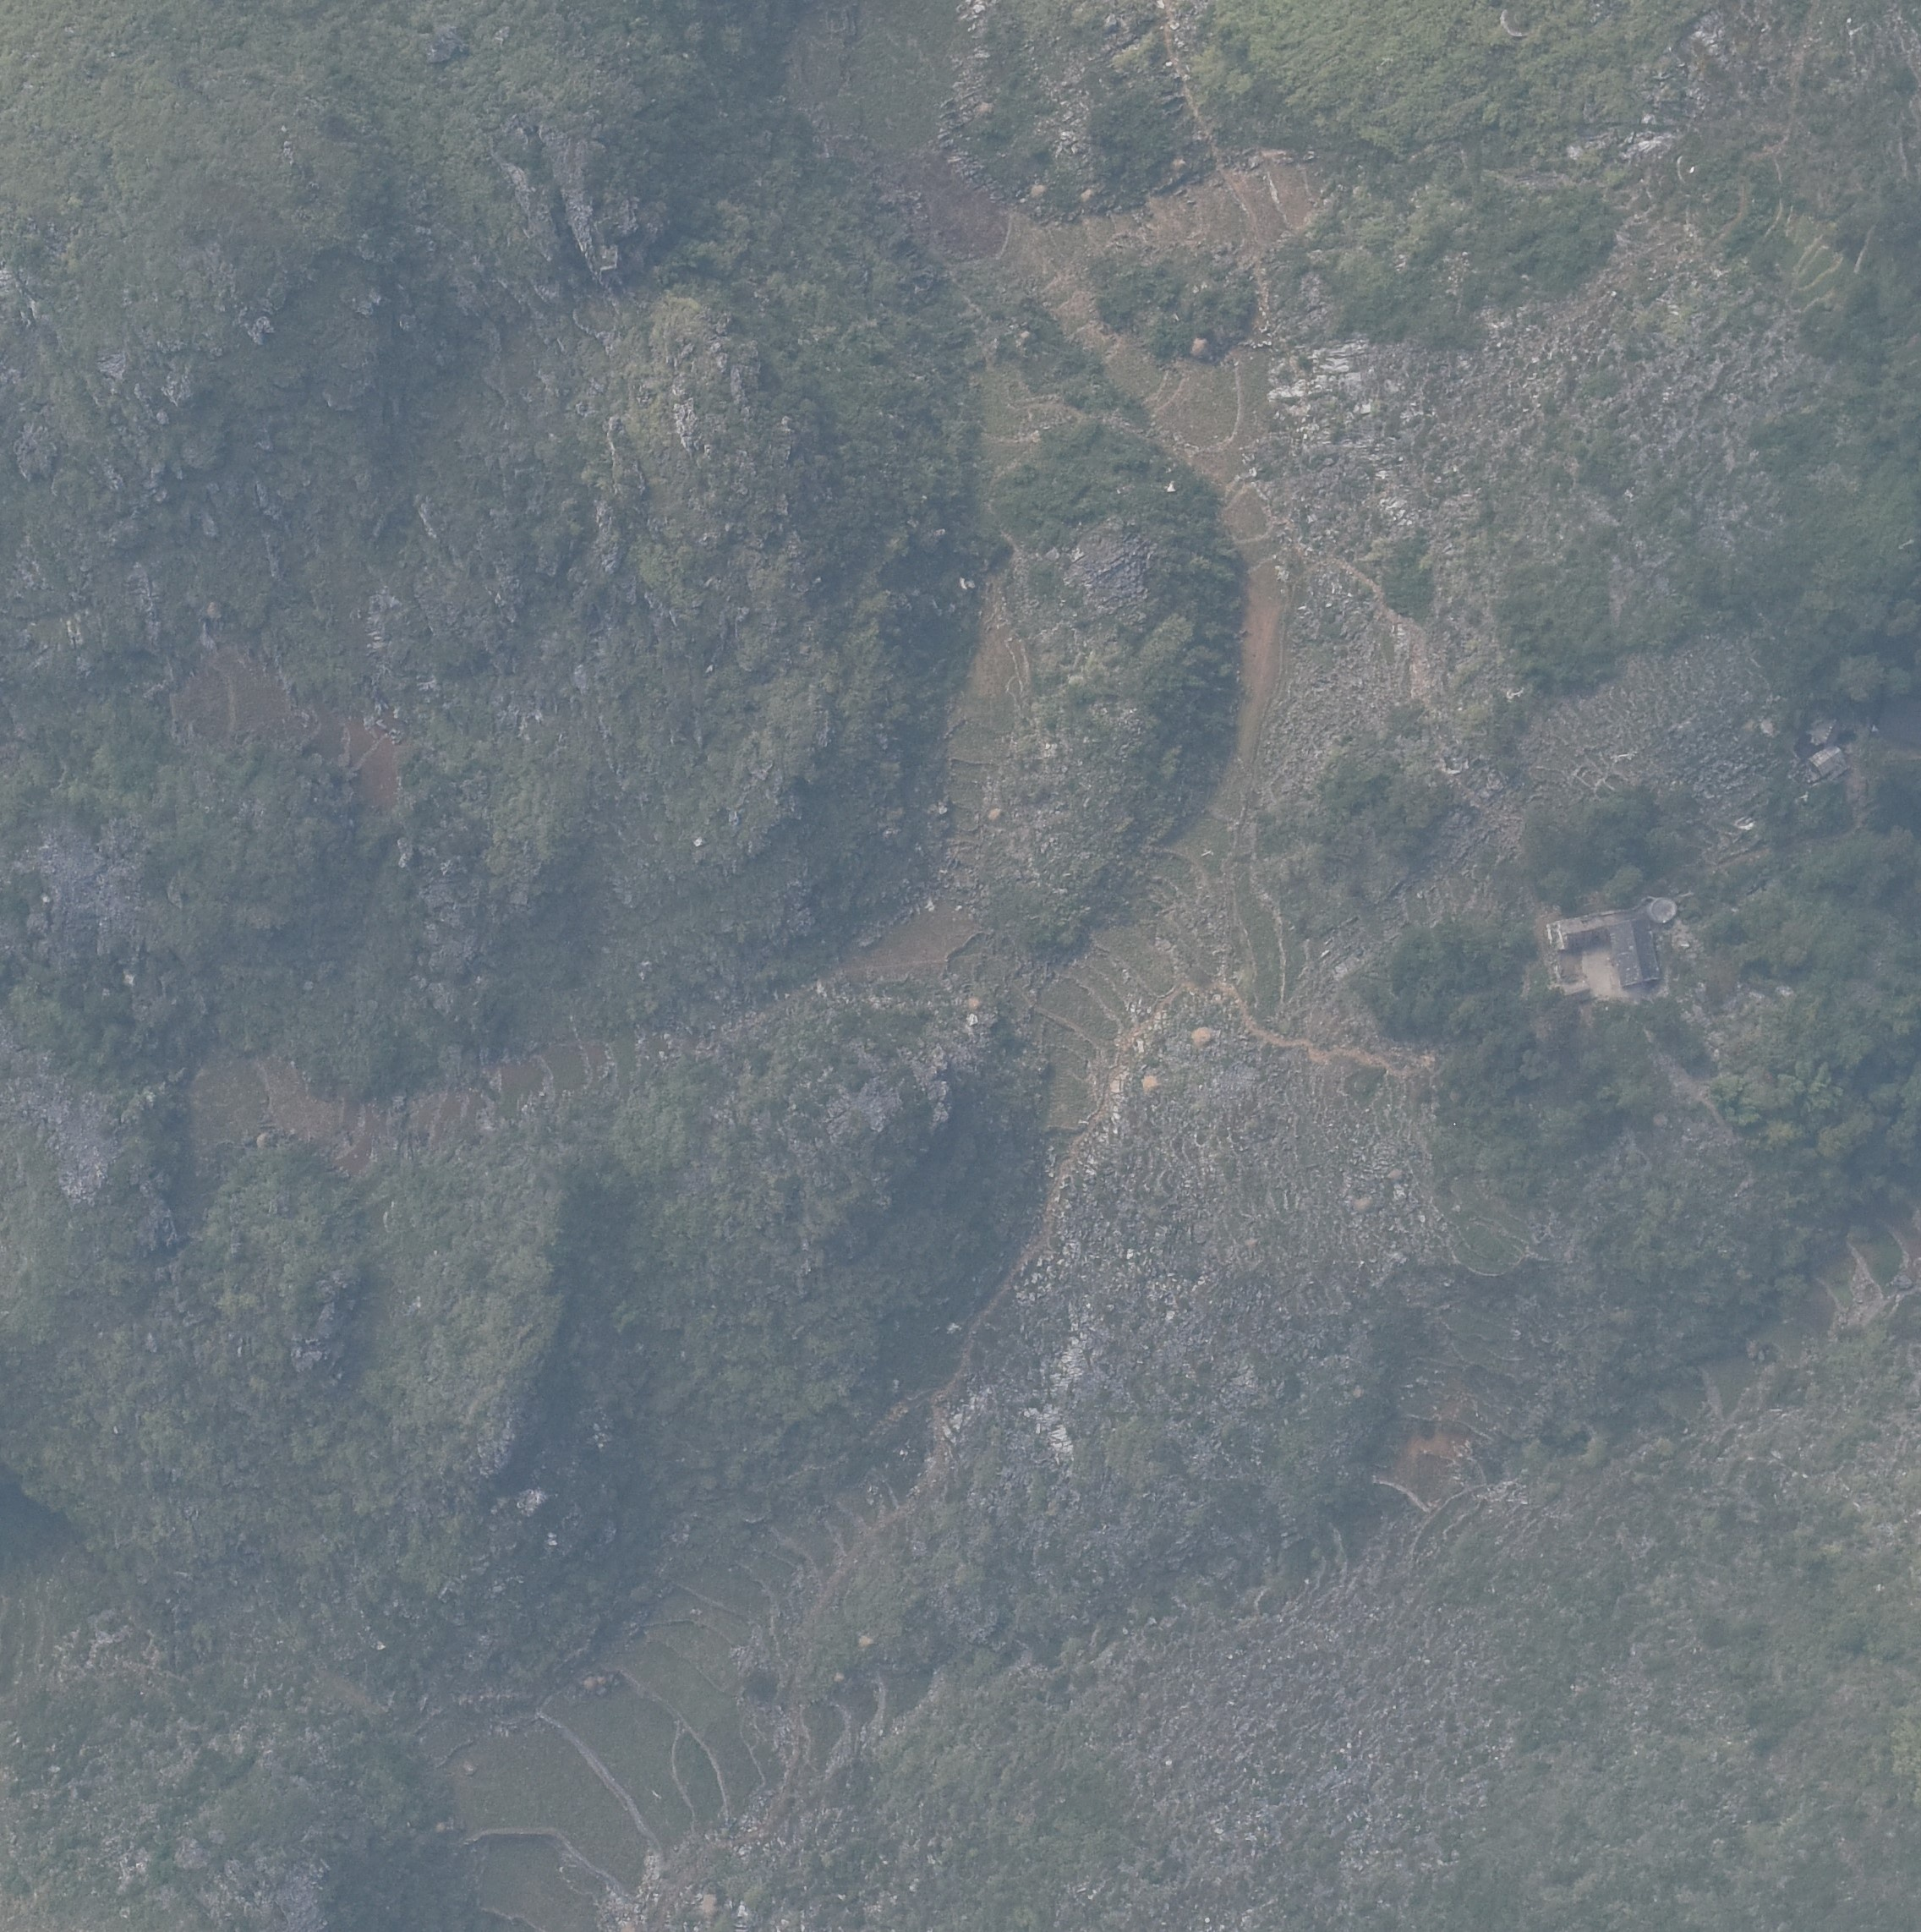building: (1546, 913, 1659, 985), (1810, 746, 1849, 781), (1810, 716, 1838, 746), (1562, 984, 1594, 1003)
